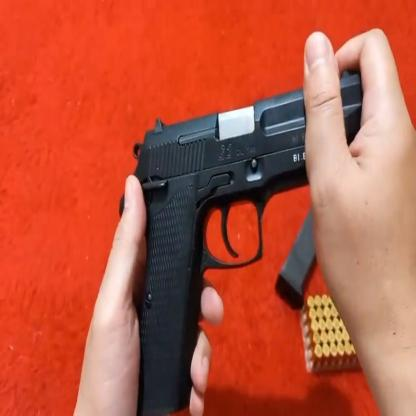handgun: (130, 58, 372, 406)
